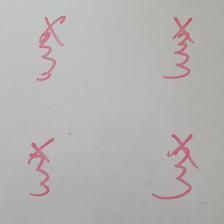protease-site: (151, 133, 199, 200), (162, 15, 193, 80), (35, 16, 65, 81), (27, 137, 55, 197)
